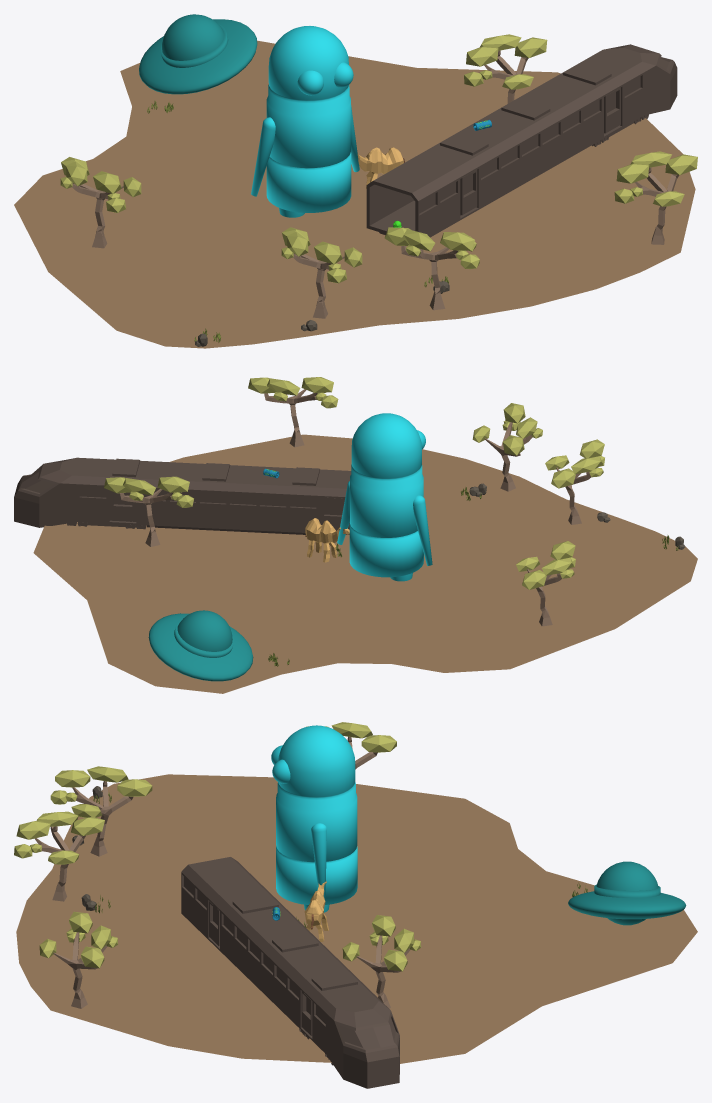
Rendered from floor.fbx.
The picture shows the model from 3 angles, top to bottom: view 1: azimuth 30°, elevation 25°; view 2: azimuth 150°, elevation 25°; view 3: azimuth 270°, elevation 25°; orthographic projection. The views are drawn at different scales.
Visible parts, largest first — view 1: Plane, train, armleftcopy, SPaceship, tree2, tree2.001, tree3, tree1, tree4, Sphere; view 2: Plane, train, armleftcopy, SPaceship, tree2, tree2.001, tree3, tree1, tree4, Sphere; view 3: Plane, train, armleftcopy, SPaceship, tree4, tree3, tree2, tree2.001, tree1, Sphere.
Boxes of the visible parts, bbox=[...] form: Plane: bbox=[14, 40, 695, 348]; train: bbox=[366, 44, 677, 237]; armleftcopy: bbox=[251, 26, 359, 217]; SPaceship: bbox=[139, 14, 257, 94]; tree2: bbox=[614, 151, 697, 244]; tree2.001: bbox=[464, 34, 547, 103]; tree3: bbox=[384, 227, 479, 310]; tree1: bbox=[60, 157, 141, 248]; tree4: bbox=[281, 227, 362, 318]; Sphere: bbox=[357, 147, 404, 188]; Plane: bbox=[33, 434, 697, 693]; train: bbox=[14, 457, 351, 534]; armleftcopy: bbox=[337, 413, 432, 581]; SPaceship: bbox=[148, 610, 253, 681]; tree2: bbox=[248, 377, 338, 447]; tree2.001: bbox=[104, 476, 193, 546]; tree3: bbox=[472, 403, 542, 491]; tree1: bbox=[516, 541, 575, 626]; tree4: bbox=[545, 439, 604, 524]; Sphere: bbox=[305, 518, 349, 562]; Plane: bbox=[16, 774, 697, 1063]; train: bbox=[181, 857, 399, 1088]; armleftcopy: bbox=[271, 725, 357, 912]; SPaceship: bbox=[568, 861, 686, 925]; tree4: bbox=[50, 766, 152, 856]; tree3: bbox=[14, 811, 104, 901]; tree2: bbox=[39, 911, 118, 1008]; tree2.001: bbox=[342, 915, 421, 1008]; tree1: bbox=[306, 722, 396, 769]; Sphere: bbox=[304, 881, 328, 941].
Size of the model in its own units: 2485 by 837 by 2303.
